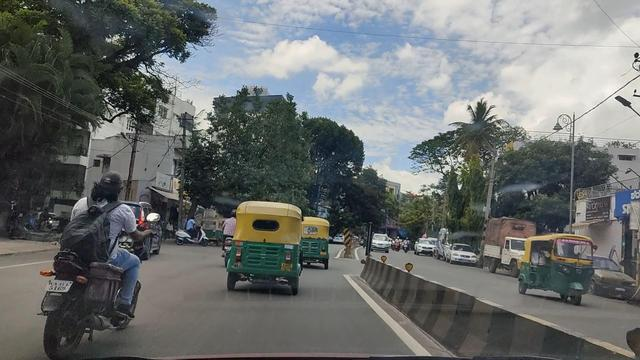LMV: (49, 177, 142, 347), (231, 197, 292, 297), (298, 221, 334, 273)
